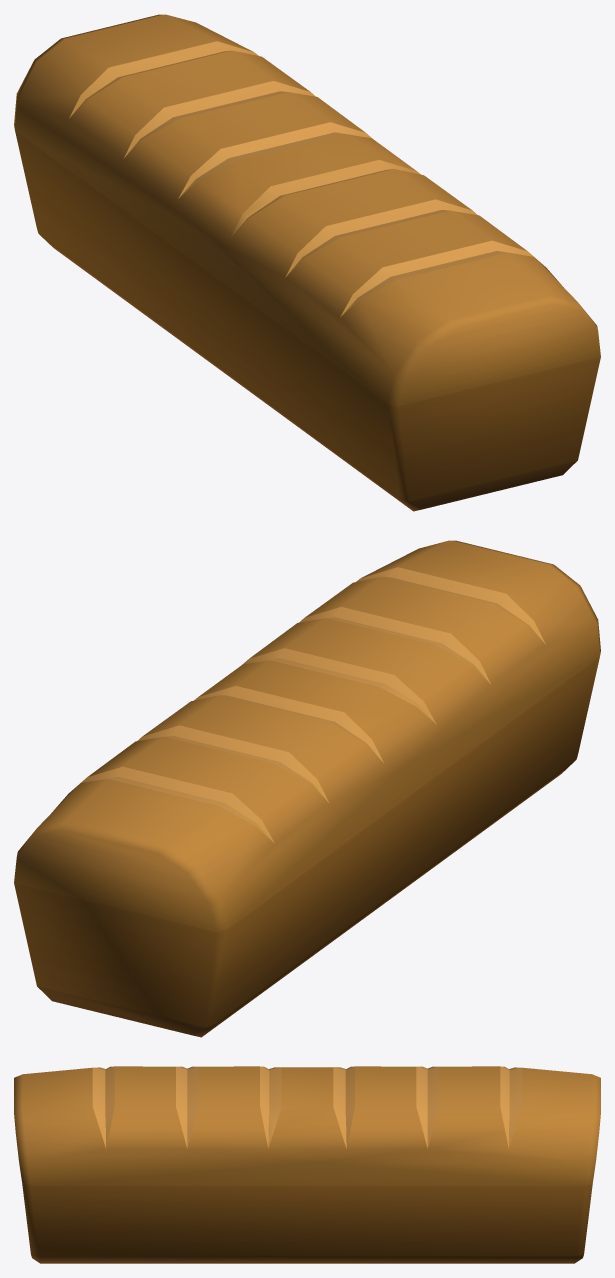
Rendered from Food_5.fbx.
3 views of the same model, one above another, from view 1: azimuth 30°, elevation 25°; view 2: azimuth 150°, elevation 25°; view 3: azimuth 270°, elevation 25° (orthographic). The views are drawn at different scales.
Parts seen in each view (by area): view 1: Food_5; view 2: Food_5; view 3: Food_5.
Boxes of the visible parts, <box> form: Food_5: <box>14,14,600,511</box>; Food_5: <box>14,540,600,1037</box>; Food_5: <box>14,1066,600,1263</box>.
Bounding box in the file's own units: 6.66 × 6.08 × 21.49.
